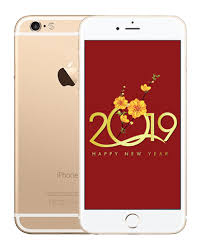iphone: (76, 10, 188, 237)
iphone6: (76, 11, 188, 238)
